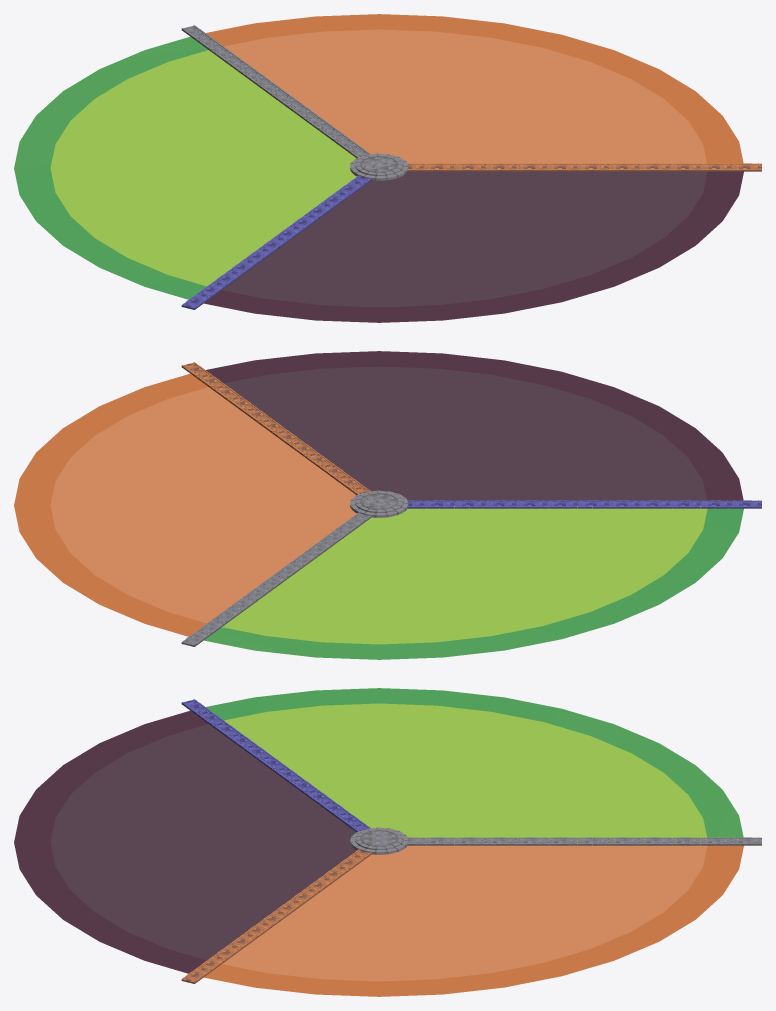
File: GroundVar1.fbx
3 renders of one model, top to bottom at view 1: azimuth 30°, elevation 25°; view 2: azimuth 150°, elevation 25°; view 3: azimuth 270°, elevation 25°, orthographic.
Visible parts, largest first — view 1: Ground, DirtRoad, PurpleRoad, GreenRoad, AltarBelt; view 2: Ground, PurpleRoad, GreenRoad, DirtRoad, AltarBelt; view 3: Ground, GreenRoad, DirtRoad, PurpleRoad, AltarBelt.
Part boxes in pixels (x1=…): Ground: x1=14, y1=14, x2=743, y2=322; DirtRoad: x1=407, y1=163, x2=761, y2=171; PurpleRoad: x1=181, y1=175, x2=371, y2=309; GreenRoad: x1=181, y1=25, x2=370, y2=157; AltarBelt: x1=350, y1=153, x2=408, y2=180; Ground: x1=14, y1=351, x2=743, y2=659; PurpleRoad: x1=407, y1=500, x2=761, y2=508; GreenRoad: x1=181, y1=512, x2=371, y2=646; DirtRoad: x1=181, y1=362, x2=370, y2=494; AltarBelt: x1=350, y1=490, x2=408, y2=517; Ground: x1=14, y1=688, x2=743, y2=996; GreenRoad: x1=407, y1=837, x2=761, y2=845; DirtRoad: x1=181, y1=849, x2=371, y2=983; PurpleRoad: x1=181, y1=699, x2=370, y2=831; AltarBelt: x1=350, y1=827, x2=408, y2=854.
Size of the model in its own units: 120 by 0.8272 by 123.
